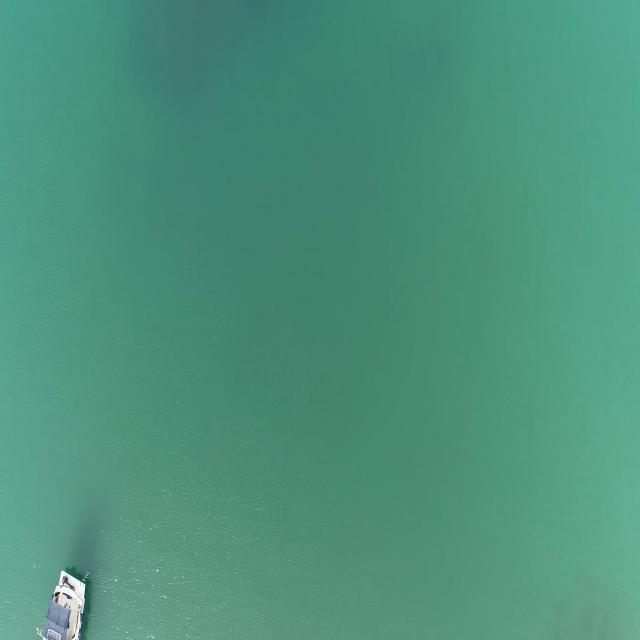boat: (36, 568, 94, 640)
